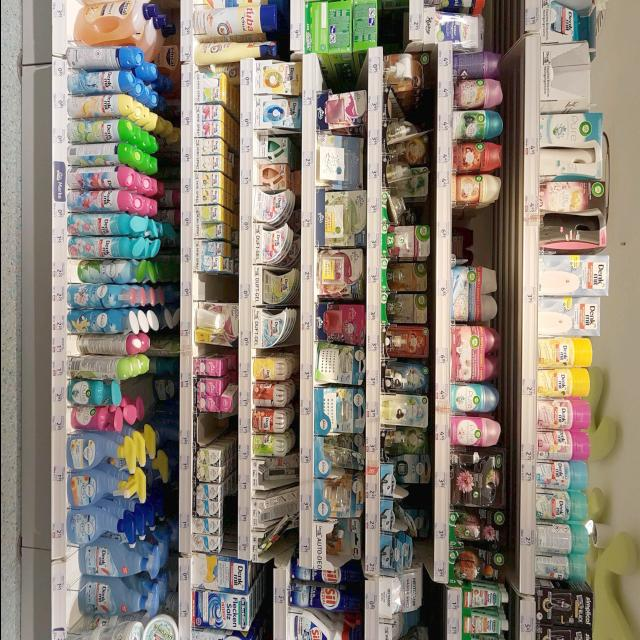empty_space: (452, 206, 496, 266), (319, 56, 354, 88), (198, 276, 226, 298), (201, 417, 223, 437)
